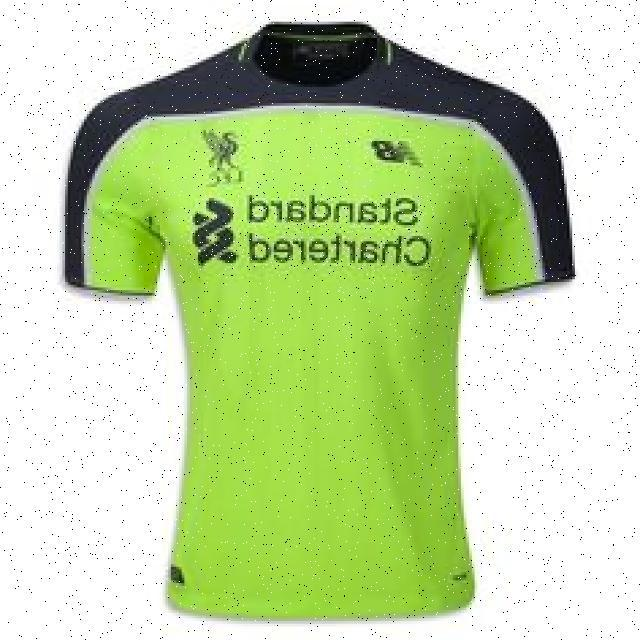Standard Chartered: (192, 193, 434, 269)
